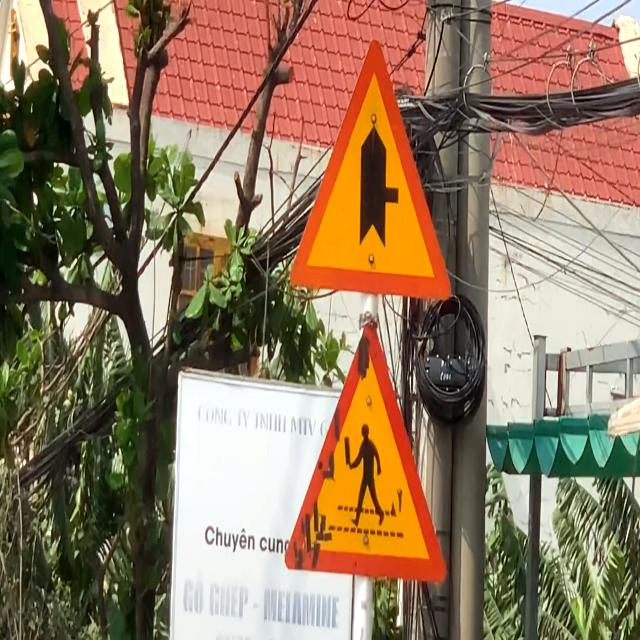W.207b: (289, 32, 452, 306)
W.224: (282, 312, 449, 587)
